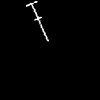double_crochet: (26, 1, 48, 40)
